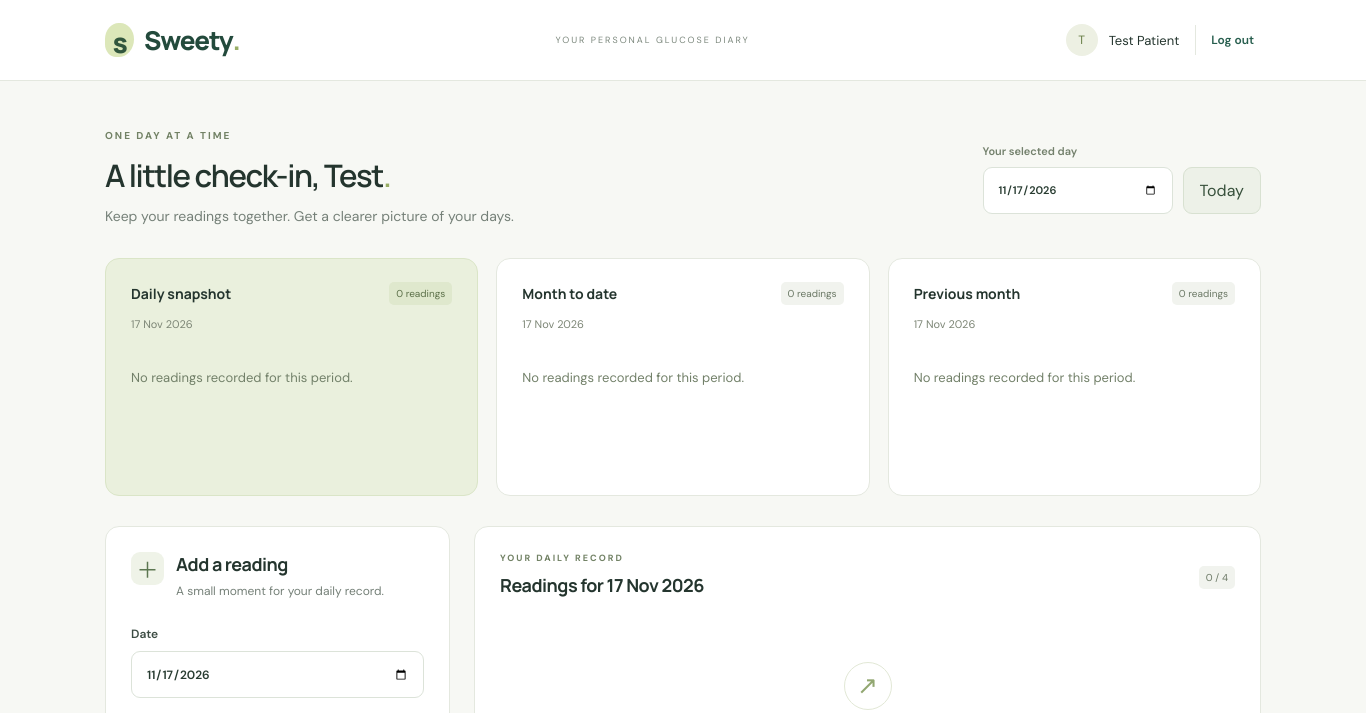
Scenario: tab return revalidates while preserving selected day and unsaved input
Later steps or results of the test are not shown.
Expected: the heading "A little check-in, Test." is shown, top-left (105, 154), bottom-right (390, 196)
Type "2026-11-15" into the date field named "Selected report date" at (1078, 190), box top-left (983, 167), bottom-right (1173, 214)
(page scrolled)
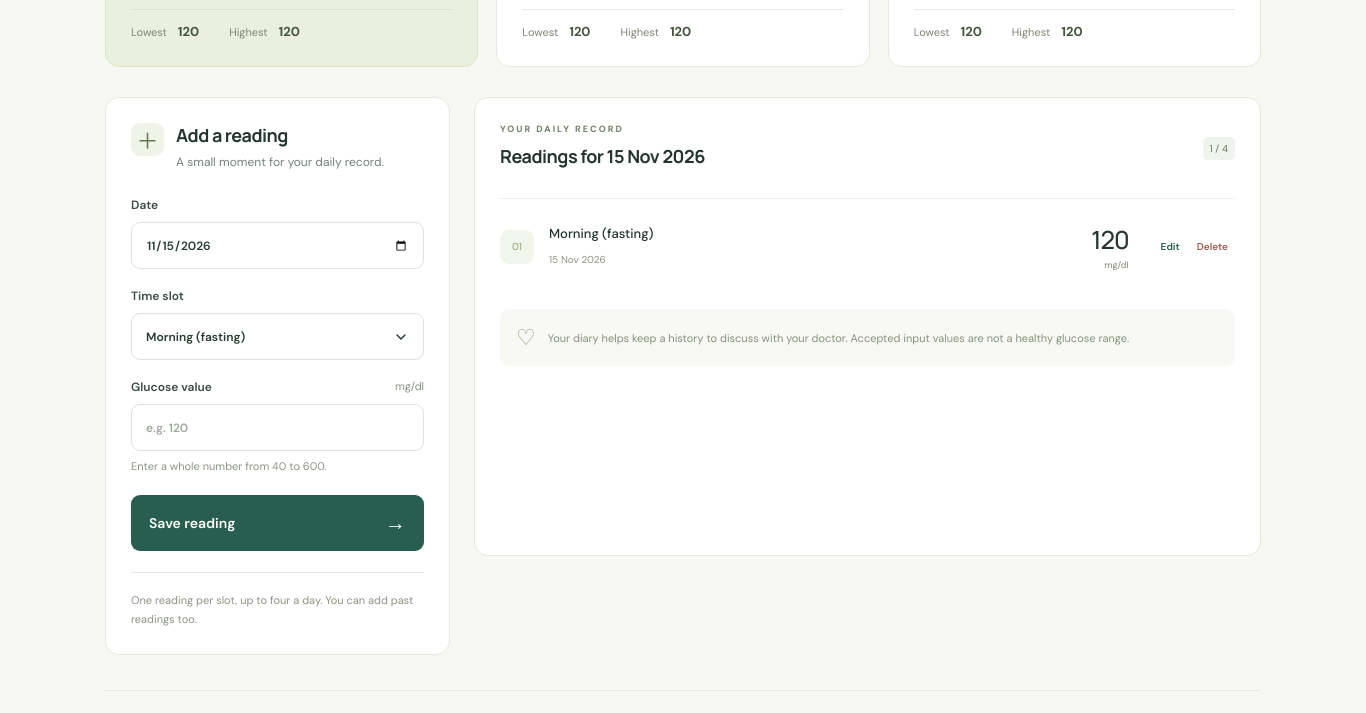
Result: the button with aria-label "Edit Morning (fasting) reading" is shown at top-left (1154, 233), bottom-right (1187, 260)
